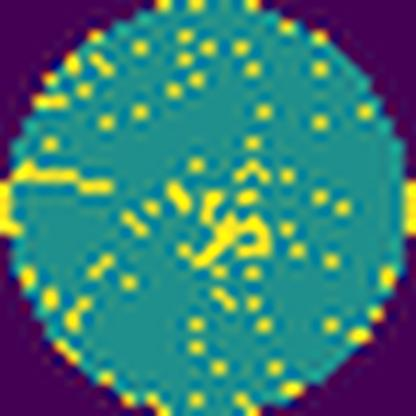Loc: (182, 190, 272, 268), (160, 178, 194, 213)
